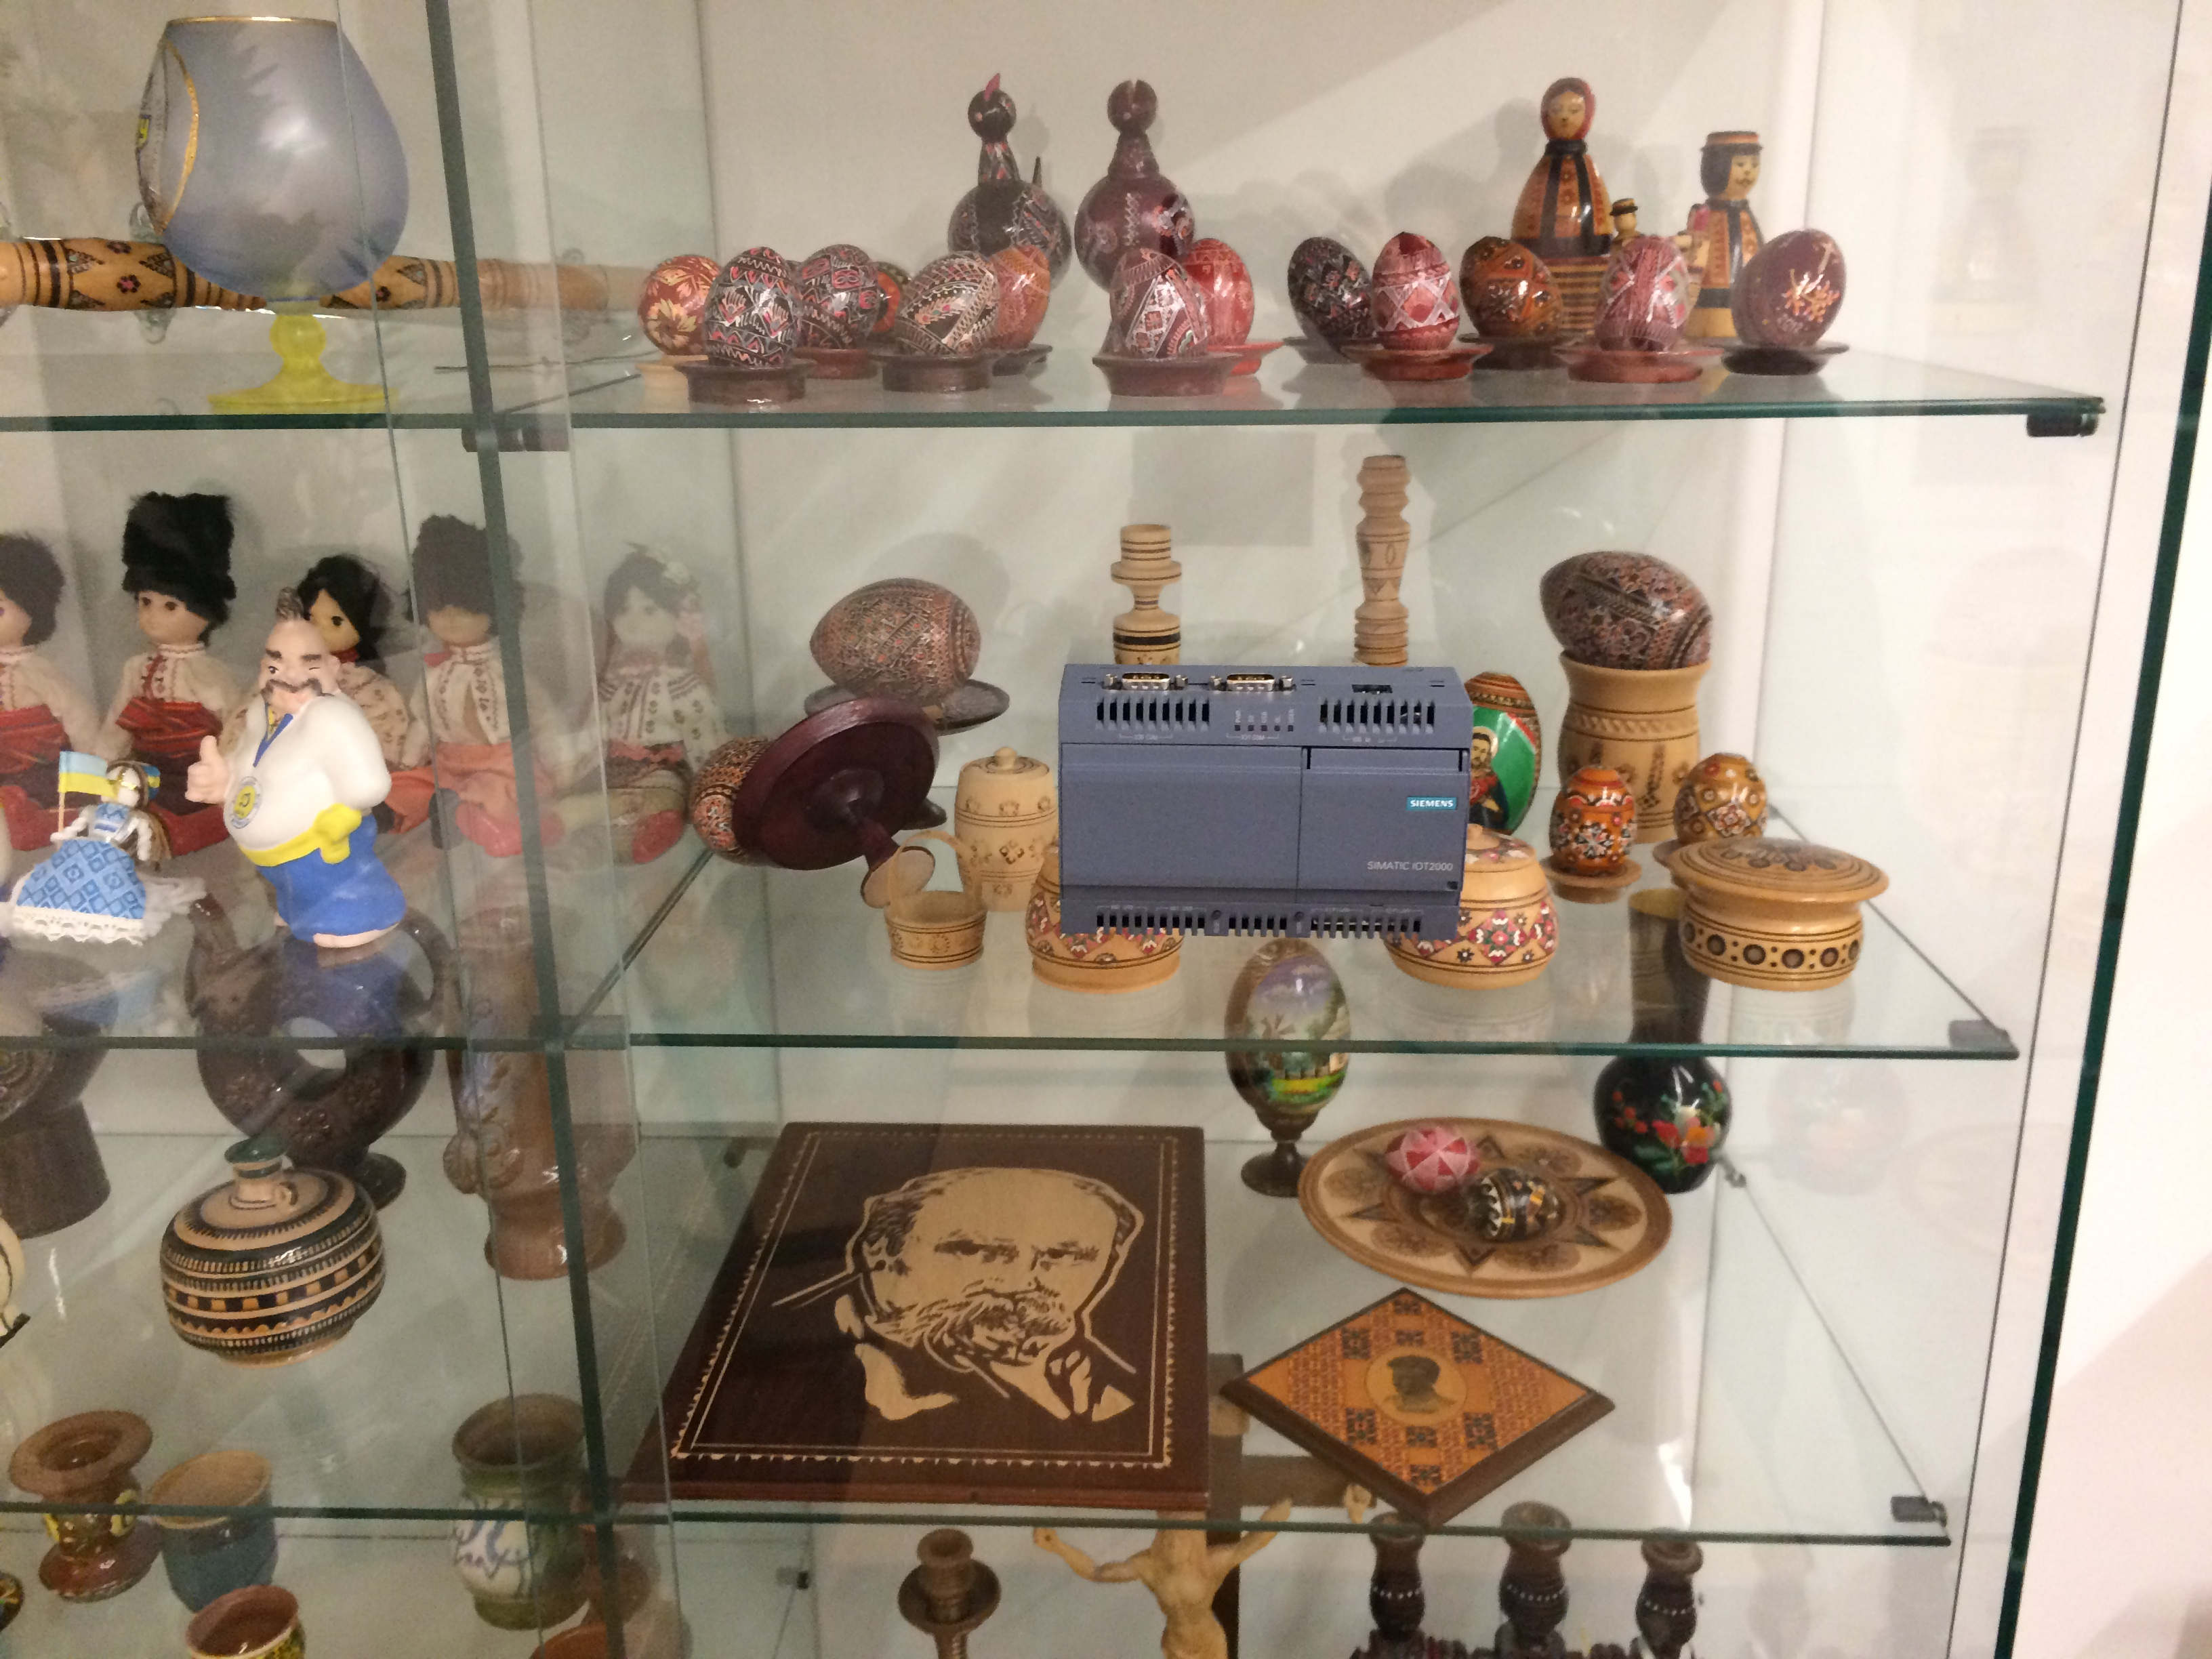iot2000: (1054, 659, 1475, 945)
